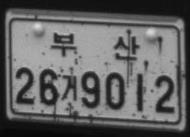0: (104, 70, 126, 111)
1: (131, 72, 149, 112)
2: (153, 74, 175, 114), (13, 66, 35, 105)
6: (38, 67, 59, 105)
9: (80, 69, 101, 108)
거: (61, 73, 78, 101)
부산_D: (49, 31, 141, 60)
